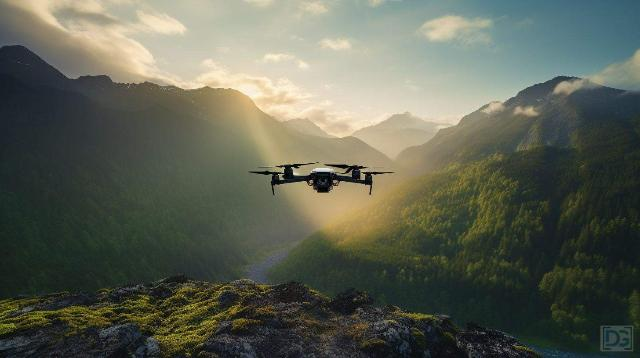drone: (247, 162, 397, 196)
